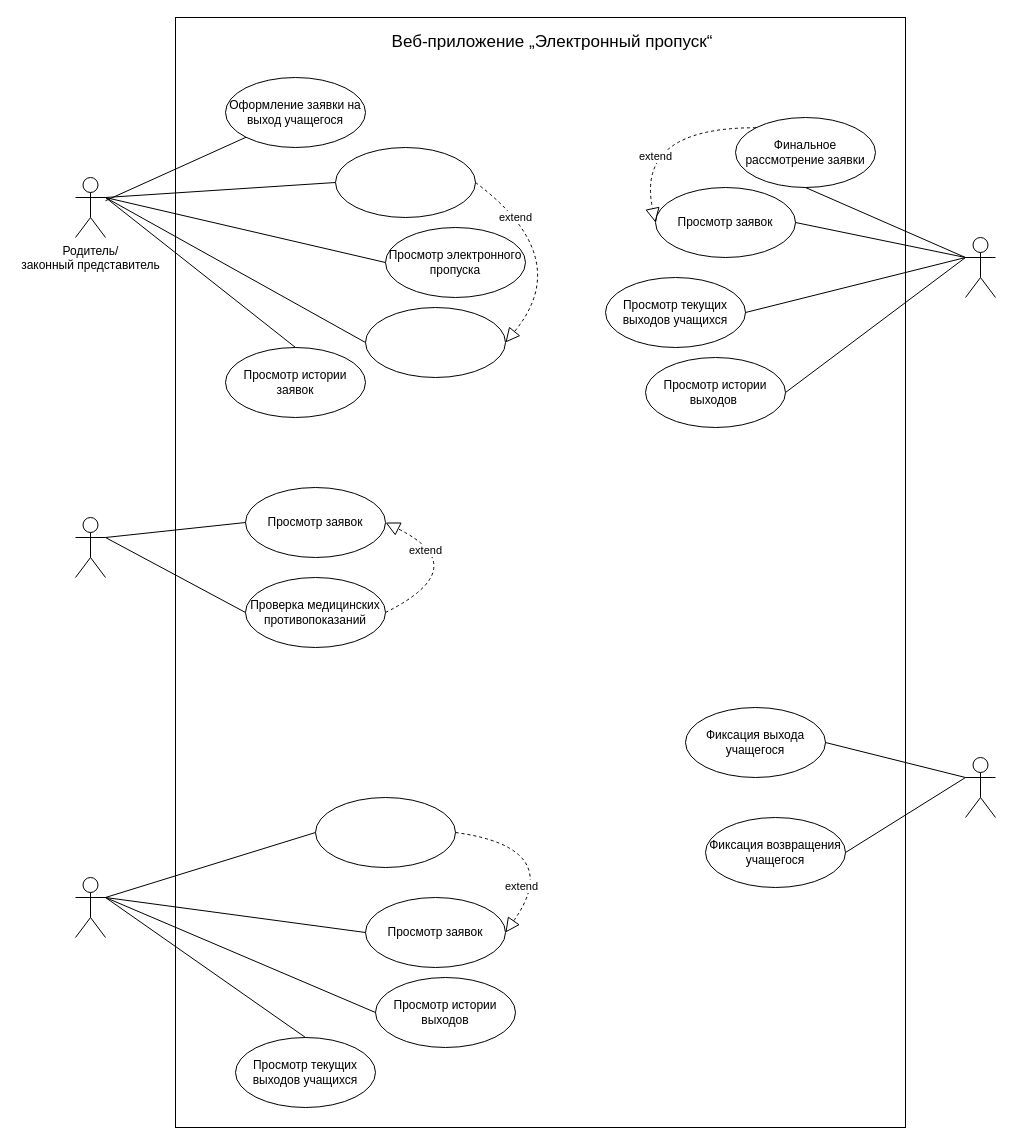
This 1033x1145 diagram has some shape labels left out. Each missing label, with the centre of its shape:
Воспитатель: pixel 980 267
Заместитель директора по воспитательной работе: pixel 90 907
Медицинский работник: pixel 90 547
Отмена заявки: pixel 405 182
Охранник: pixel 980 787
Просмотр активных заявок: pixel 435 342
Рассмотрение заявки: pixel 385 832
